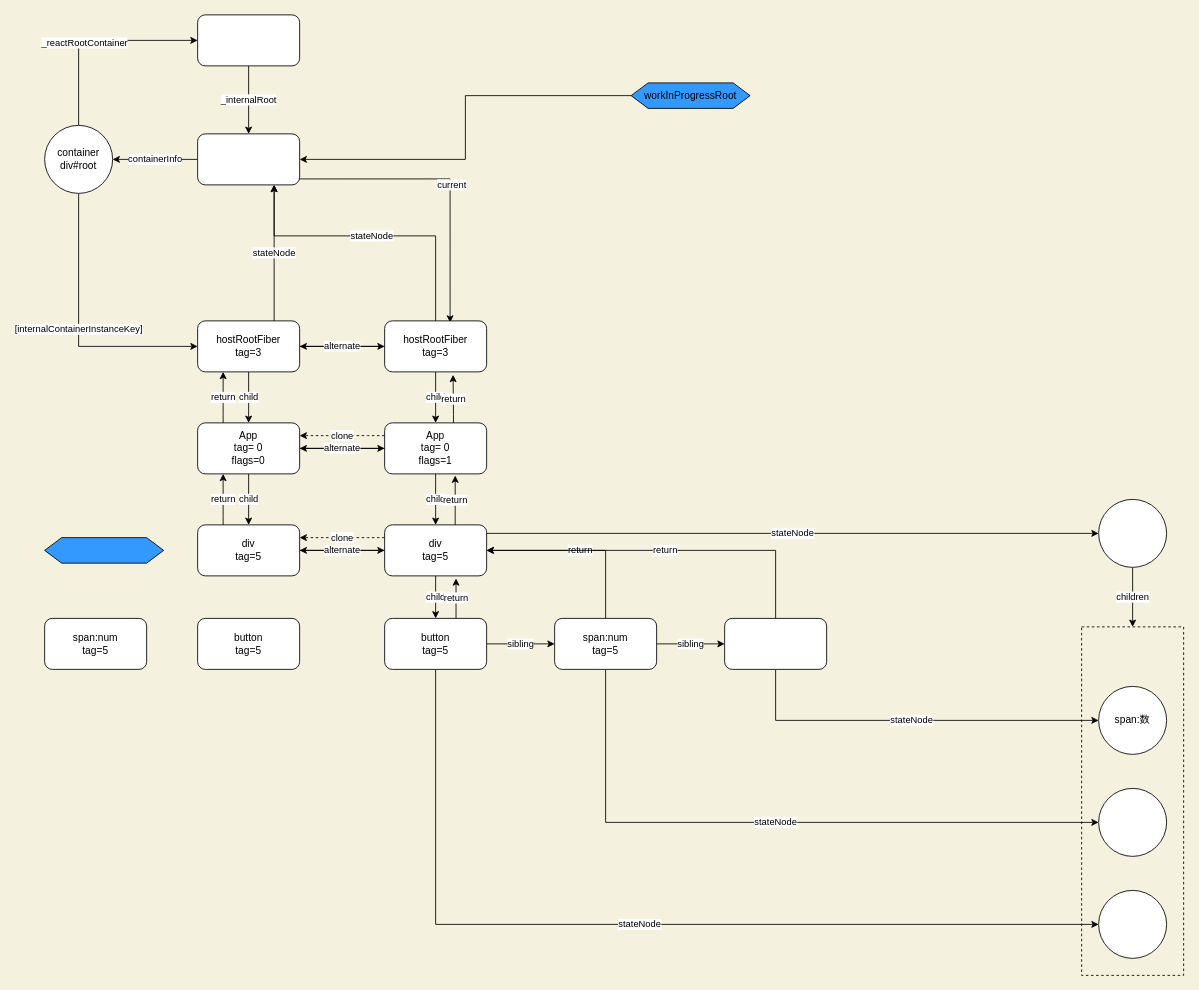
This 1199x990 diagram has some shape labels left out. The box of each missing label's shape, as (x1, y1, x2, y2) in pixels:
button: (1098, 890, 1167, 958)
div: (1098, 499, 1167, 567)
FiberRootNode tag=0: (197, 133, 300, 185)
root: (197, 14, 300, 66)
span:num: (1098, 788, 1167, 856)
span:数 tag=5: (724, 618, 827, 669)
workInProgress: (44, 537, 164, 563)
